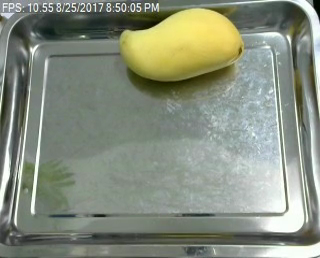Mango: (110, 6, 248, 85)
